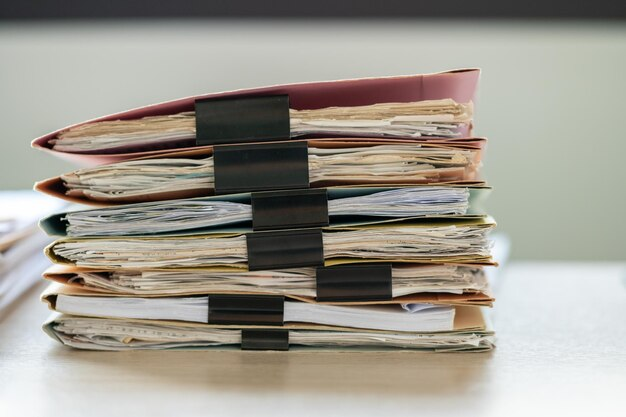not a gesture sign: (214, 142, 308, 194)
